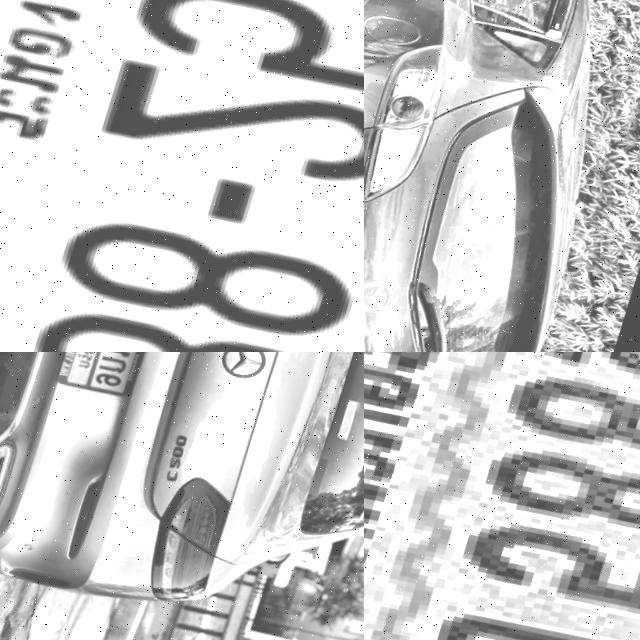license-plate: (0, 0, 364, 352), (364, 352, 640, 640), (56, 352, 169, 405)
